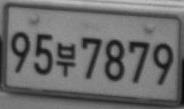5: (34, 33, 53, 75)
7: (80, 36, 102, 79), (128, 40, 150, 83)
8: (103, 38, 125, 82)
9: (152, 41, 174, 85), (10, 30, 31, 72)
부: (55, 42, 76, 77)
